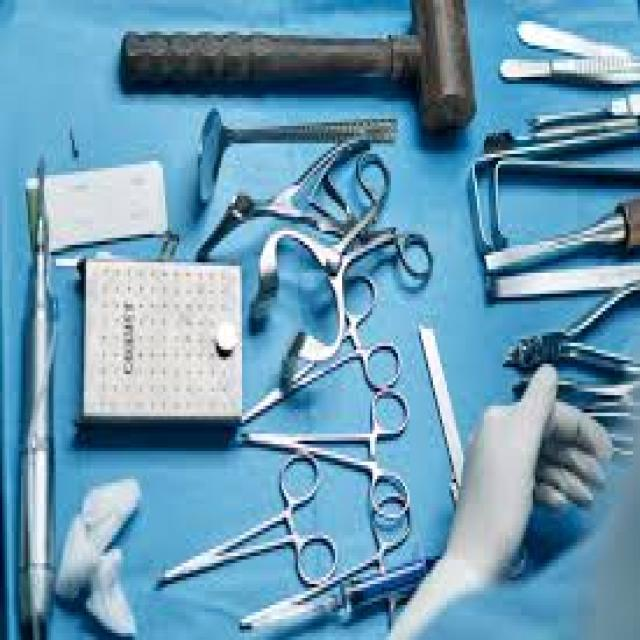tools_table: (6, 0, 638, 640)
